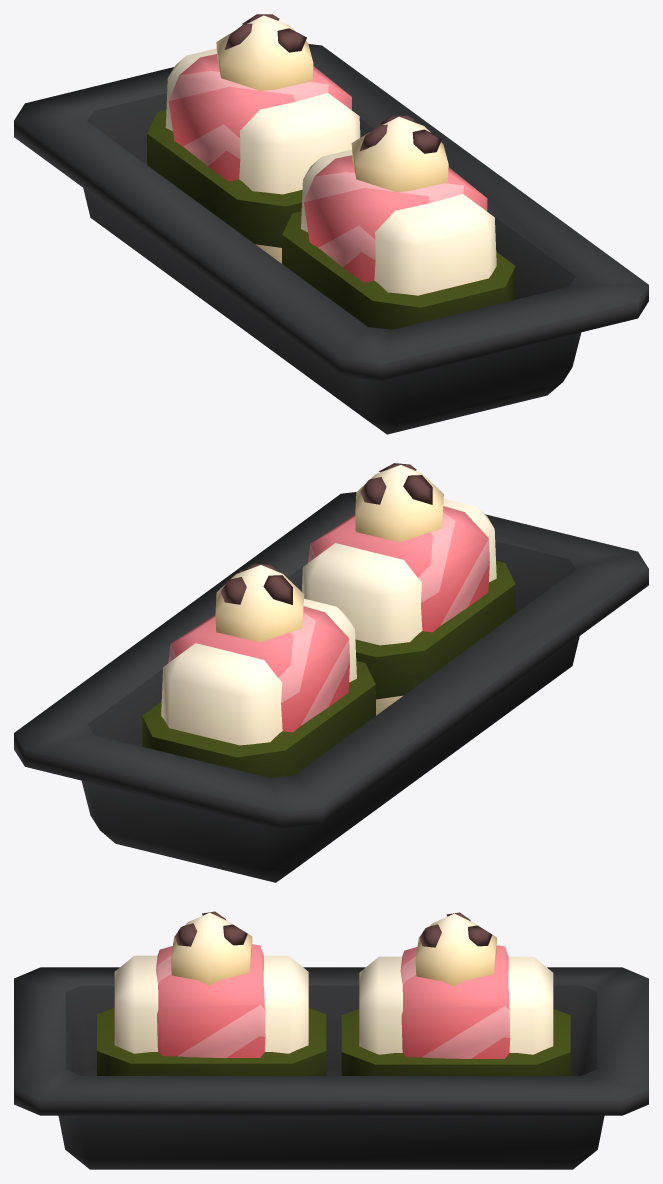
Rendered from Set_1_016.gltf.
The picture shows the model from 3 angles, top to bottom: view 1: azimuth 30°, elevation 25°; view 2: azimuth 150°, elevation 25°; view 3: azimuth 270°, elevation 25°; orthographic projection. The views are drawn at different scales.
Parts seen in each view (by area): view 1: Box_Plastic_Black_Small_001.003, Sushi_Small_Narrow_Tuna_Fat_002.004, Sushi_Small_Narrow_Tuna_Fat_002.001; view 2: Box_Plastic_Black_Small_001.003, Sushi_Small_Narrow_Tuna_Fat_002.001, Sushi_Small_Narrow_Tuna_Fat_002.004; view 3: Box_Plastic_Black_Small_001.003, Sushi_Small_Narrow_Tuna_Fat_002.004, Sushi_Small_Narrow_Tuna_Fat_002.001.
Boxes of the visible parts, x1=… form: Box_Plastic_Black_Small_001.003: x1=14, y1=44, x2=648, y2=434; Sushi_Small_Narrow_Tuna_Fat_002.004: x1=282, y1=115, x2=515, y2=329; Sushi_Small_Narrow_Tuna_Fat_002.001: x1=147, y1=14, x2=360, y2=263; Box_Plastic_Black_Small_001.003: x1=14, y1=492, x2=648, y2=882; Sushi_Small_Narrow_Tuna_Fat_002.001: x1=142, y1=563, x2=375, y2=777; Sushi_Small_Narrow_Tuna_Fat_002.004: x1=302, y1=463, x2=515, y2=715; Box_Plastic_Black_Small_001.003: x1=14, y1=967, x2=648, y2=1169; Sushi_Small_Narrow_Tuna_Fat_002.004: x1=97, y1=911, x2=326, y2=1075; Sushi_Small_Narrow_Tuna_Fat_002.001: x1=341, y1=912, x2=570, y2=1075.
Bounding box in the file's own units: 0.9973 × 0.7711 × 2.
Materials: 1 (1 with a texture image).
